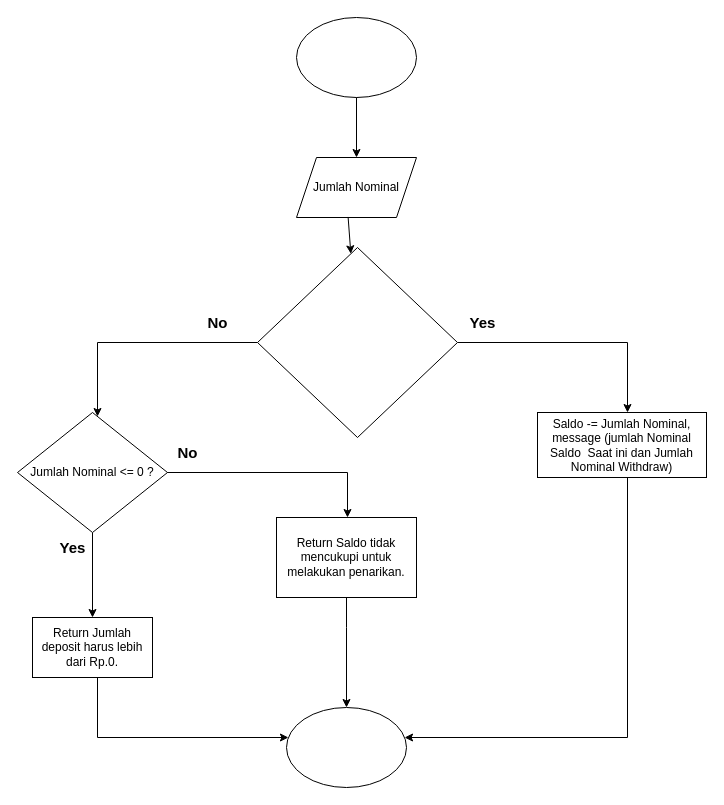
Some shapes in this 724 by 805 pixel diagram are drawn without their labels. Here are the shapes that lost their labels. From the top down, the box of each, then its label:
(296, 16, 416, 98): Withdraw
(256, 246, 458, 438): Jumlah Nominal > 0 && Jumlah Nominal <= saldo?
(286, 706, 406, 788): Selesai
